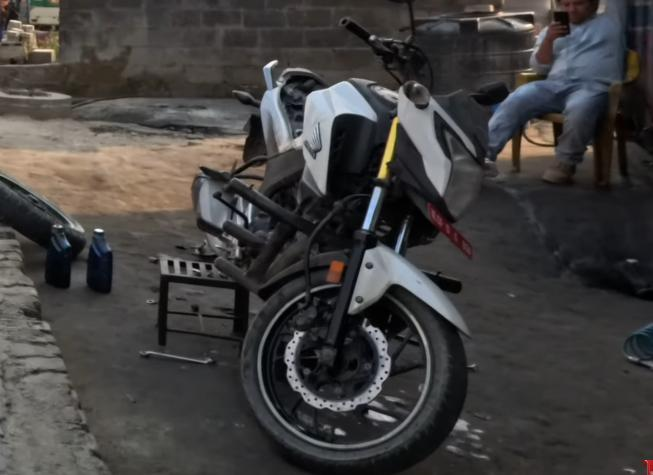bike: (191, 11, 499, 475)
